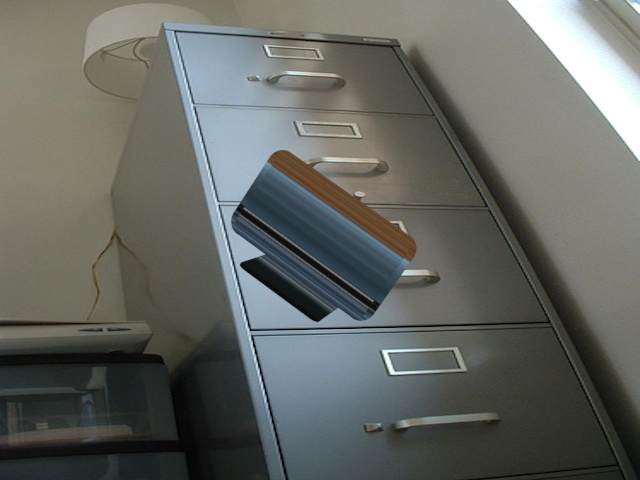monitor: (225, 144, 424, 328)
